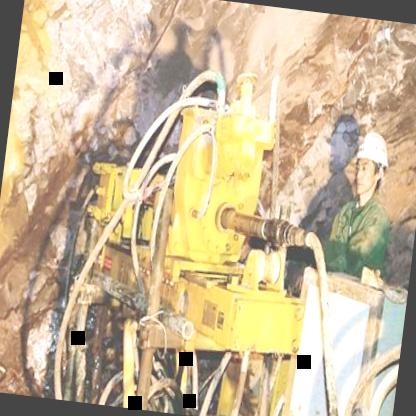helmet: (346, 128, 394, 204)
